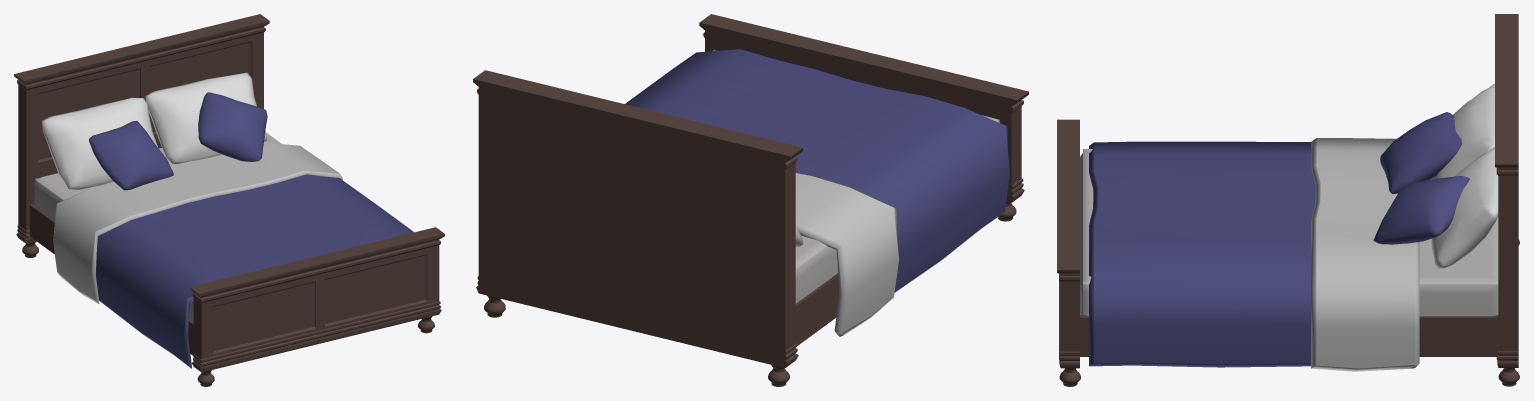
The model's file is Bed.glb.
3 renders of one model, left to right at view 1: azimuth 30°, elevation 25°; view 2: azimuth 150°, elevation 25°; view 3: azimuth 270°, elevation 25°, orthographic. The views are drawn at different scales.
Parts seen in each view (by area): view 1: polySurface28; view 2: polySurface28; view 3: polySurface28.
Part boxes in pixels (x1,y1,x2,y2): polySurface28: [14, 14, 444, 372]; polySurface28: [473, 14, 1028, 386]; polySurface28: [1057, 14, 1519, 386].
Bounding box in the file's own units: 13.03 × 8.98 × 16.5.
